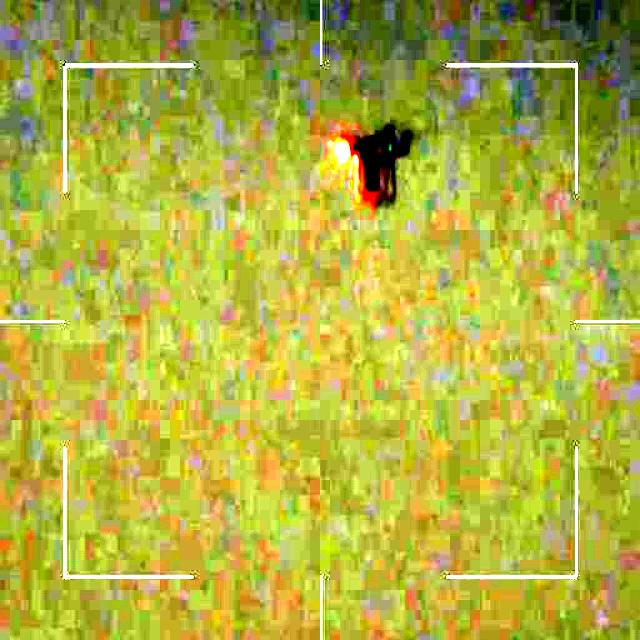bird: (319, 115, 416, 222)
